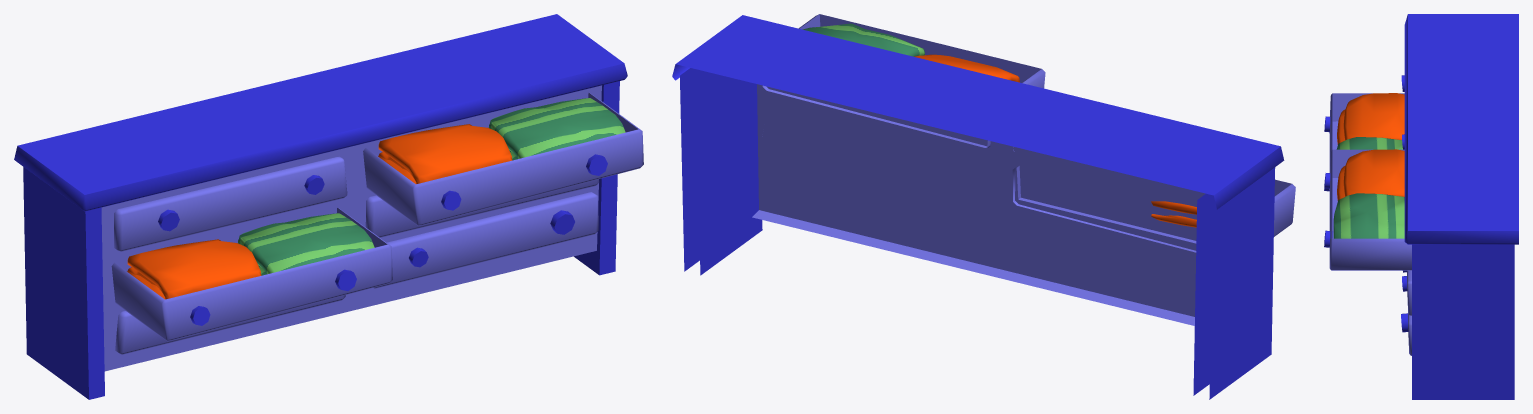
The model's file is ChestDrawersDoubleOpen.FBX.
The picture shows the model from 3 angles, left to right: view 1: azimuth 30°, elevation 25°; view 2: azimuth 150°, elevation 25°; view 3: azimuth 270°, elevation 25°; orthographic projection. The views are drawn at different scales.
Visible parts, largest first — view 1: ChestDrawersDoubleOpen; view 2: ChestDrawersDoubleOpen; view 3: ChestDrawersDoubleOpen.
Part boxes in pixels (x1,y1,x2,y2): ChestDrawersDoubleOpen: (14,14,643,399); ChestDrawersDoubleOpen: (672,14,1295,399); ChestDrawersDoubleOpen: (1324,14,1518,399).
Size of the model in its own units: 9.91 by 3.61 by 3.71.
